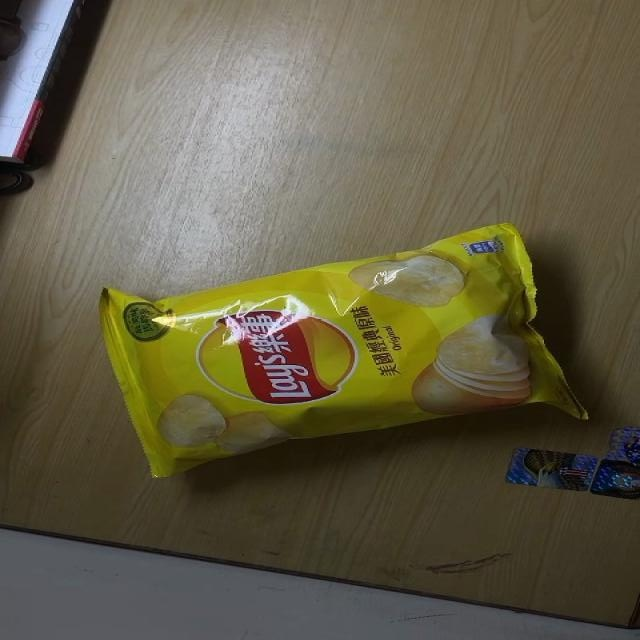Lay-s-original: (95, 221, 592, 478)
